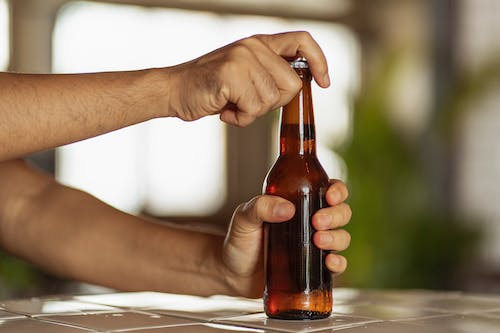alcohol: (260, 60, 334, 320)
